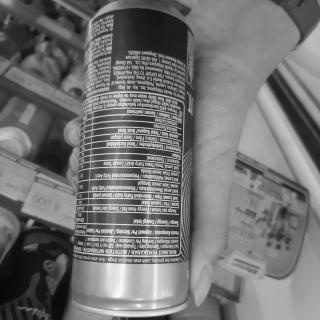alumunium_can: (69, 0, 200, 320)
